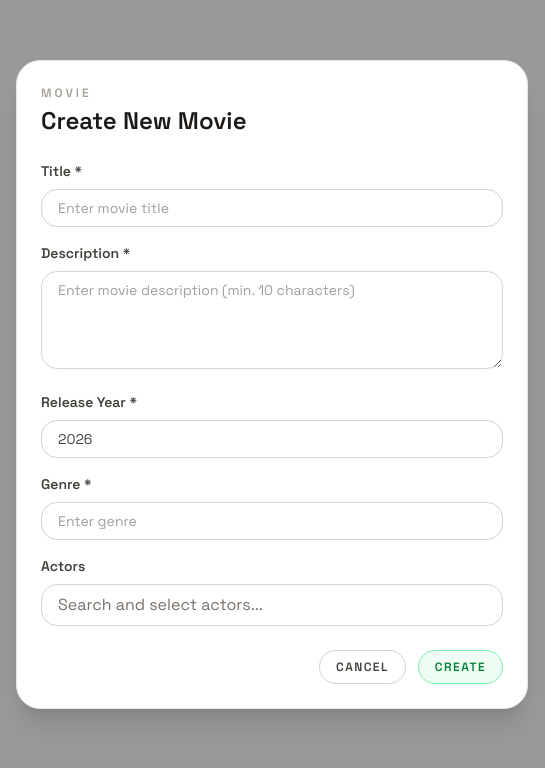
Test: MovieFormModal › validates release year range
The image size is (545, 768).
Replace the text in the number field with placeholder "Enter release year" with "3000" at (272, 438), box [41,420,503,458]
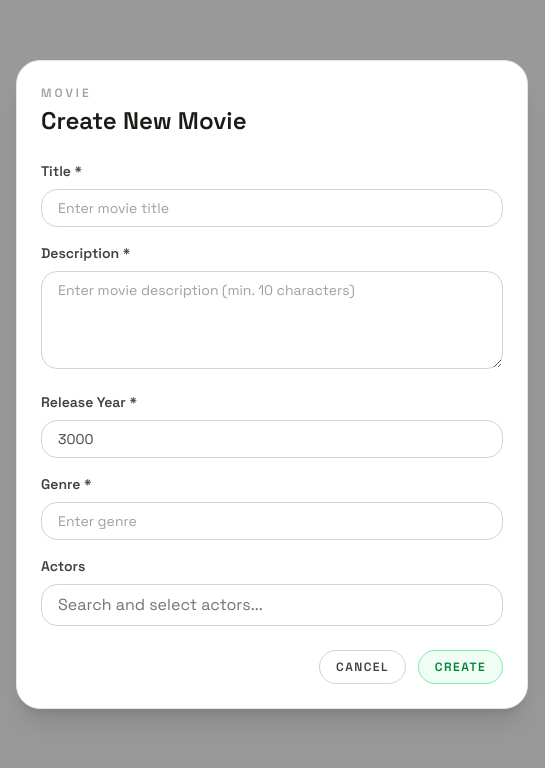
Click the button "Create" at (460, 666), box [418,650,503,684]
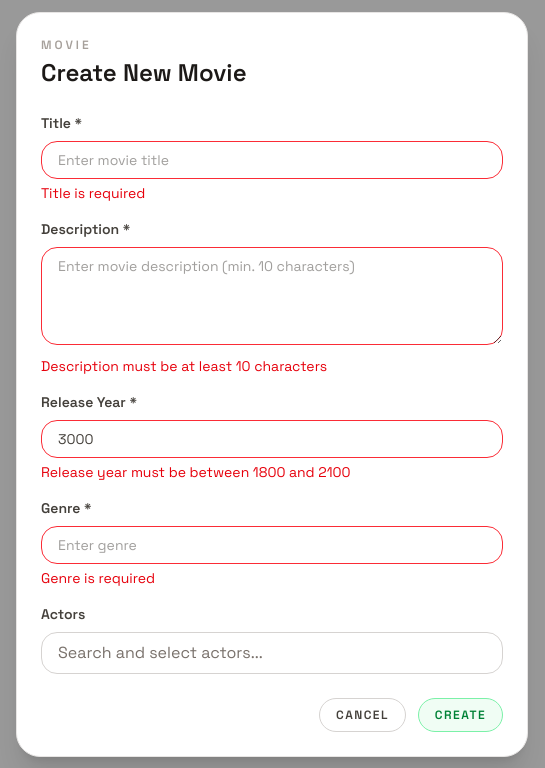
Now the text "Release year must be between 1800 and 2100" is shown, box [41,462,350,480]
